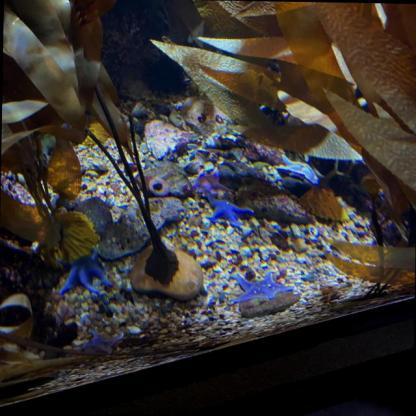starfish: (56, 245, 110, 296), (230, 270, 294, 306), (205, 191, 255, 228), (274, 154, 319, 185), (80, 329, 122, 355)
